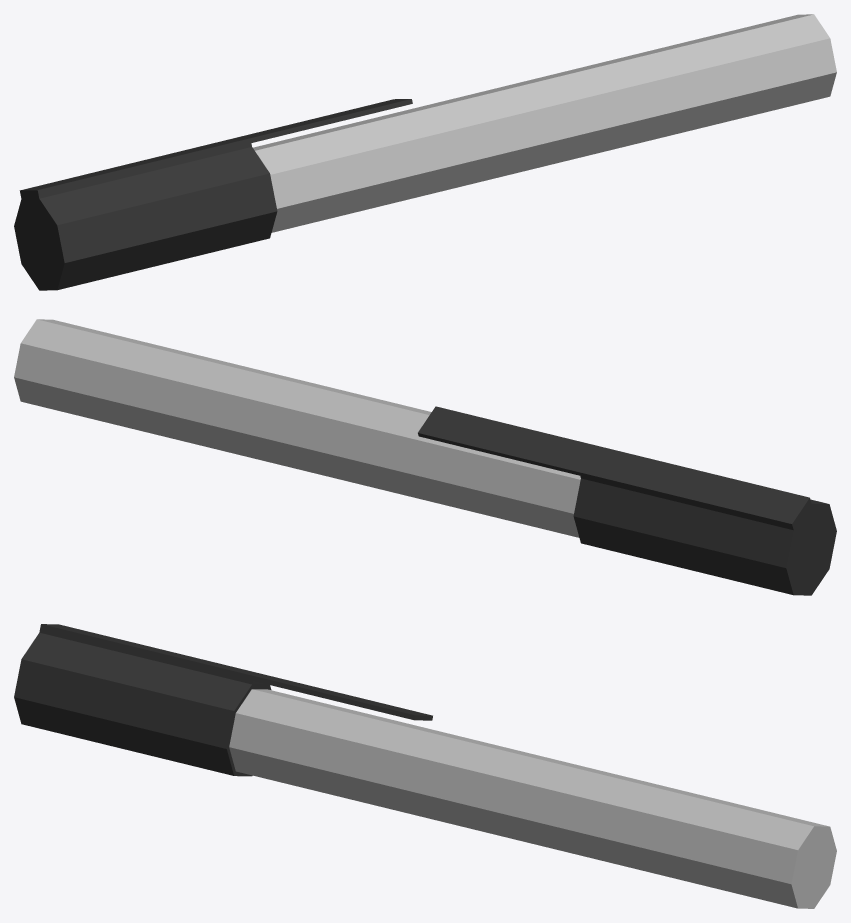
Rendered from Tusch_Black.fbx.
3 renders of one model, top to bottom at view 1: azimuth 30°, elevation 25°; view 2: azimuth 150°, elevation 25°; view 3: azimuth 330°, elevation 25°, orthographic.
Visible parts, largest first — view 1: Cylinder.008; view 2: Cylinder.008; view 3: Cylinder.008.
Part boxes in pixels (bbox=[...]): Cylinder.008: bbox=[14, 14, 836, 290]; Cylinder.008: bbox=[14, 319, 836, 595]; Cylinder.008: bbox=[14, 624, 836, 908].
Size of the model in its own units: 26.65 by 3.26 by 3.02.
